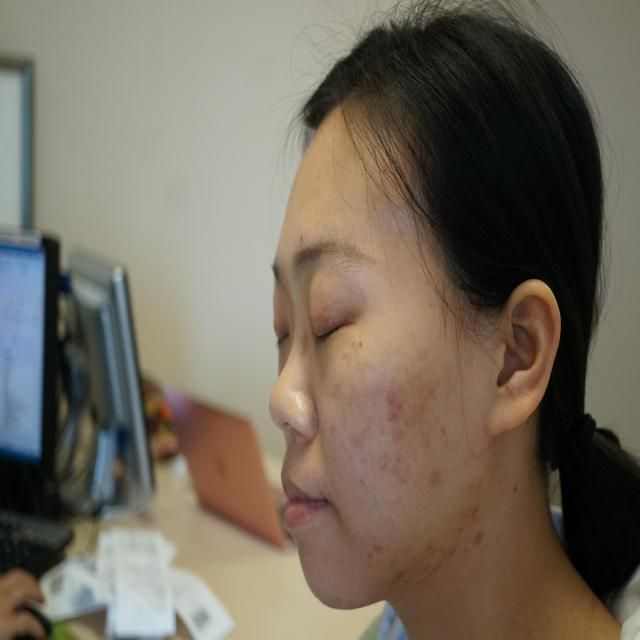acne: (428, 459, 448, 495), (421, 374, 440, 408), (385, 384, 411, 408), (395, 461, 412, 489), (441, 539, 460, 563), (370, 536, 387, 562), (467, 493, 484, 519), (378, 451, 392, 479), (389, 426, 404, 449), (388, 410, 413, 421), (476, 532, 488, 550)
